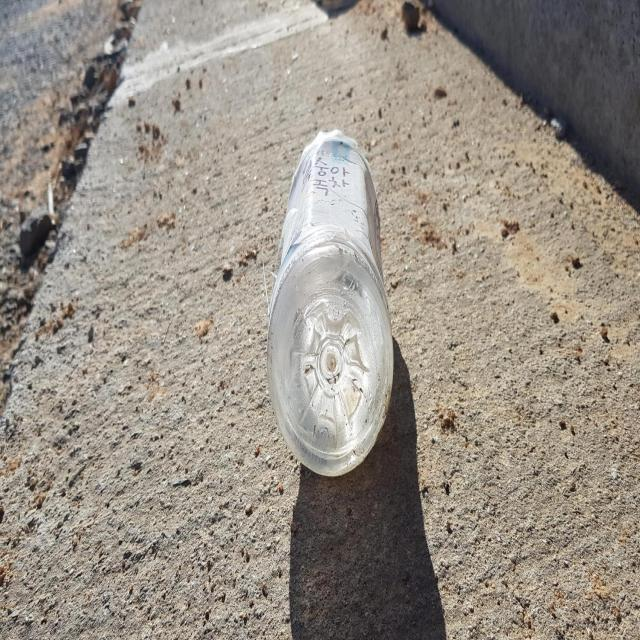plastic: (267, 128, 394, 476)
